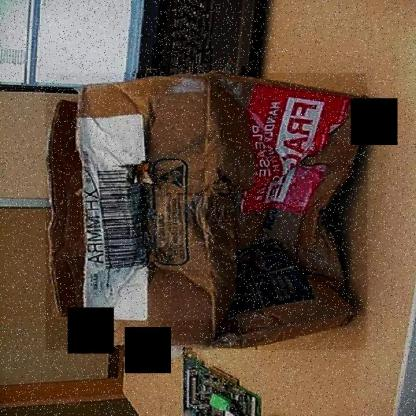box: (46, 73, 368, 350)
